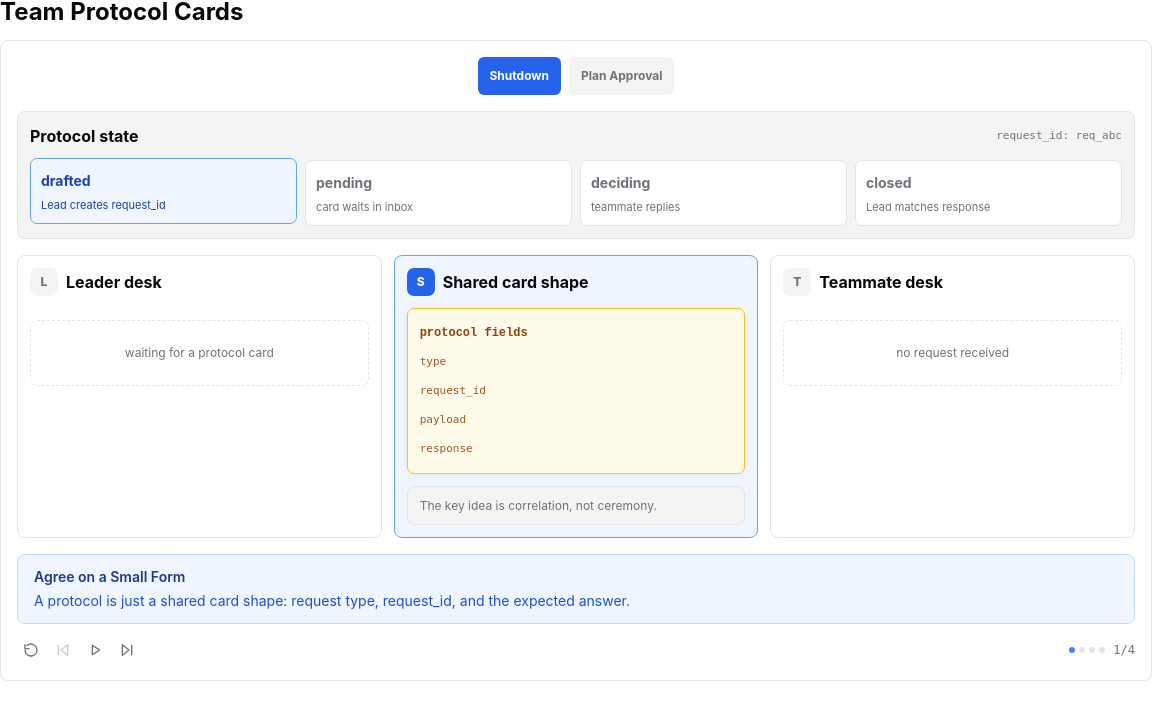
Test: S16TeamProtocols › renders shutdown protocol cards and advances through the clean-exit flow
Click the button titled "Next step" at (127, 650), box [113,636,141,664]
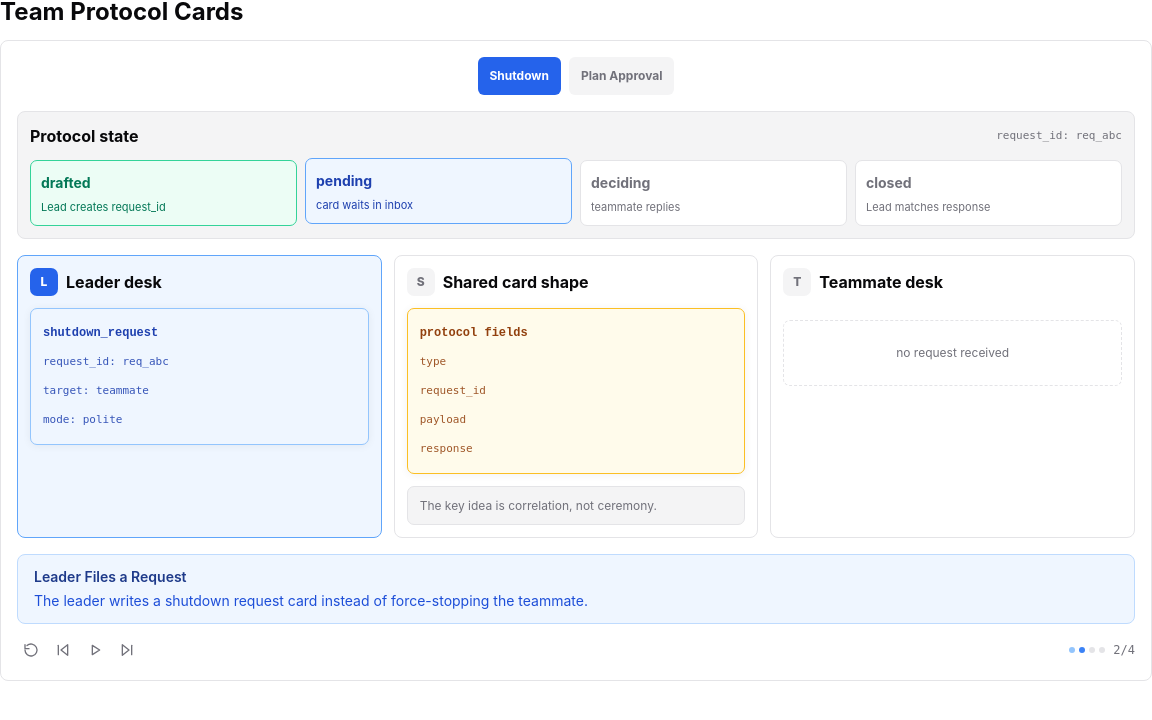
expect the text "Leader Files a Request" is shown: met, box [34,568,186,585]
expect the text "shutdown_request" is shown: met, box [43,326,158,340]
expect the text "mode: polite" is shown: met, box [43,413,122,426]
Click the button titled "Next step" at (127, 650), box [113,636,141,664]
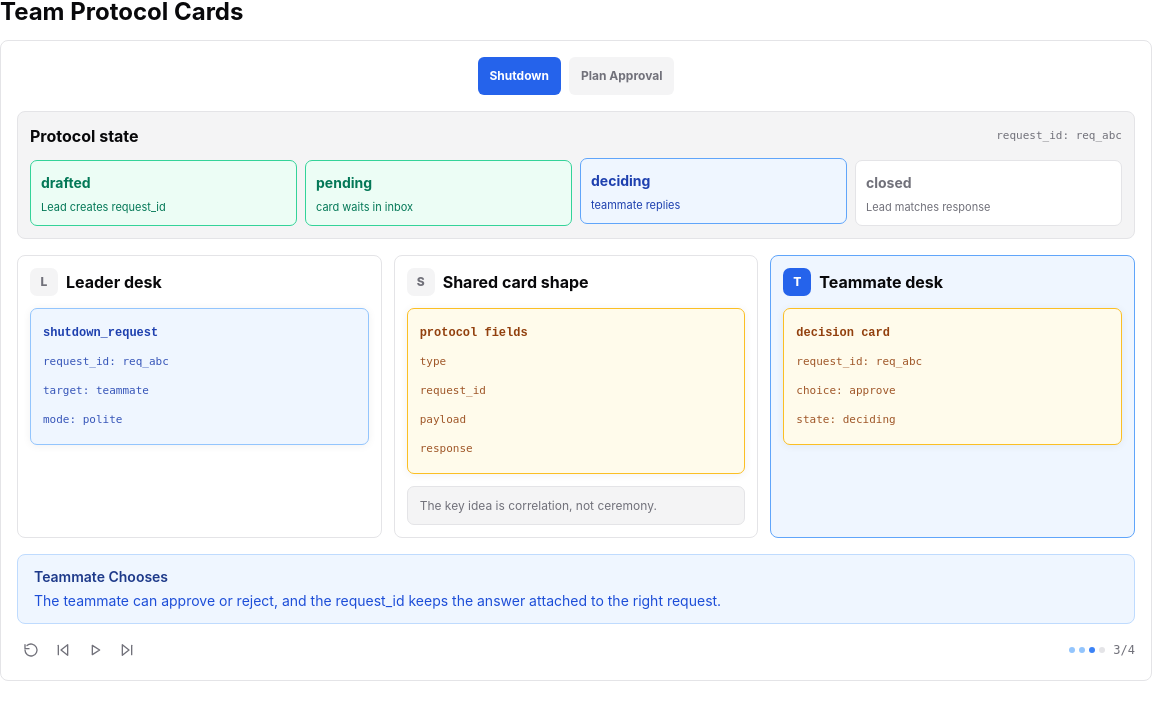
expect the text "Teammate Chooses" is shown: met, box [34,568,168,585]
expect the text "decision card" is shown: met, box [796,326,890,340]
expect the text "state: deciding" is shown: met, box [796,413,896,426]
Click the button titled "Next step" at (127, 650), box [113,636,141,664]
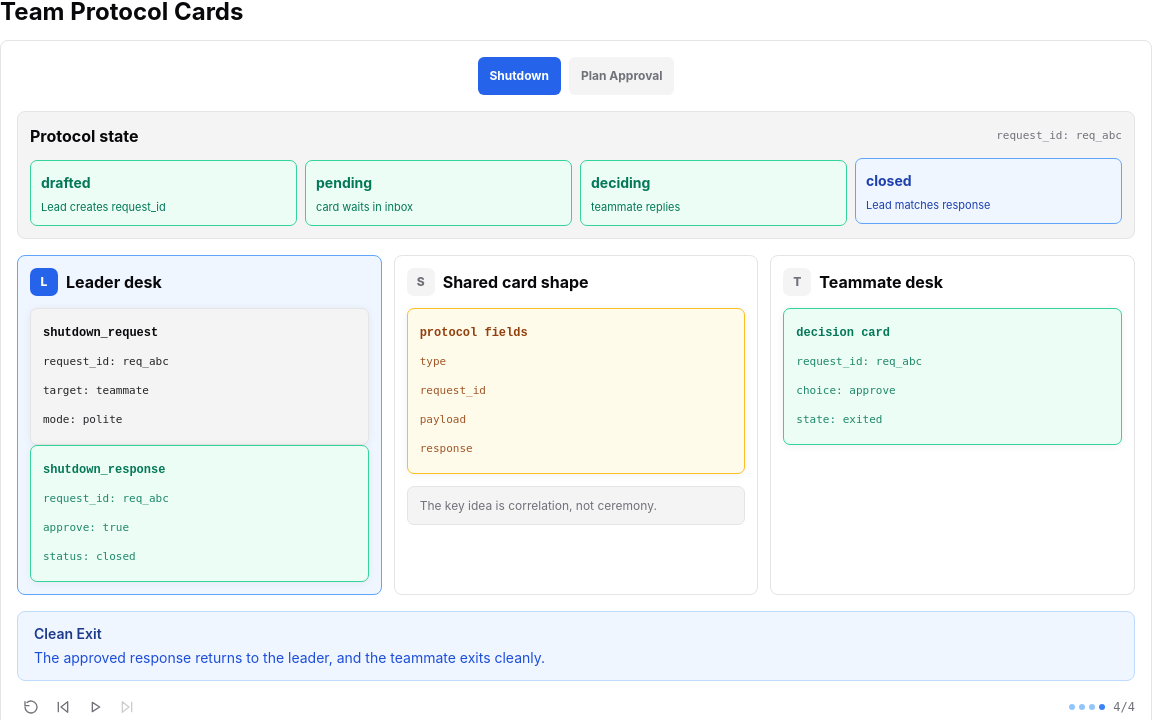
expect the text "Clean Exit" is shown: met, box [34,625,102,642]
expect the text "shutdown_response" is shown: met, box [43,463,165,477]
expect the text "state: exited" is shown: met, box [796,413,882,426]
